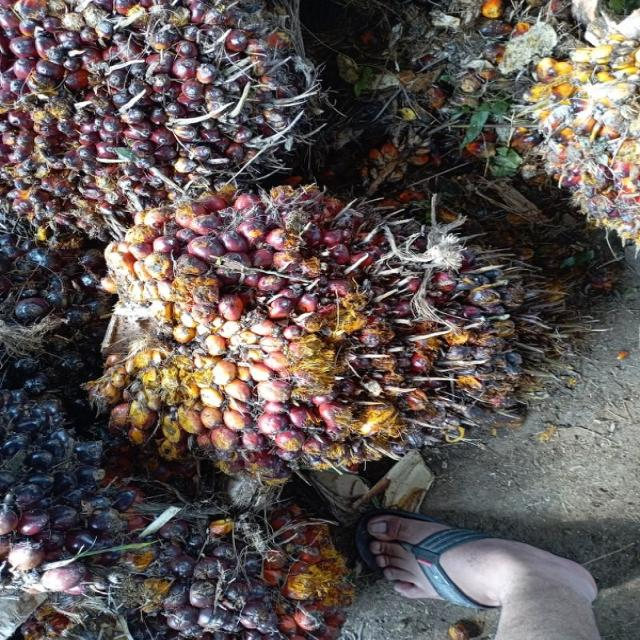fraksi 1: (91, 178, 548, 479), (0, 0, 341, 244)
